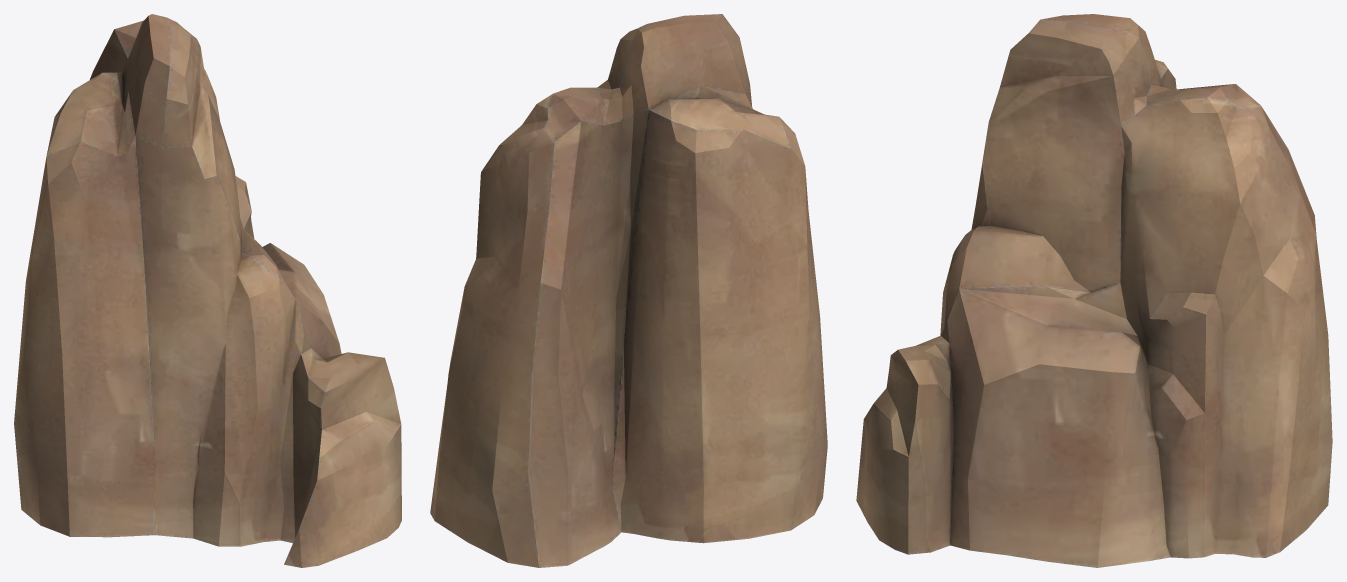
3 views of the same model, side by side, from view 1: azimuth 30°, elevation 25°; view 2: azimuth 150°, elevation 25°; view 3: azimuth 270°, elevation 25° (orthographic). The views are drawn at different scales.
Visible parts, largest first — view 1: body0_model0_lod0_mesh0; view 2: body0_model0_lod0_mesh0; view 3: body0_model0_lod0_mesh0.
Boxes of the visible parts, left/top/right/bottom form: body0_model0_lod0_mesh0: left=14, top=14, right=401, bottom=567; body0_model0_lod0_mesh0: left=430, top=14, right=827, bottom=567; body0_model0_lod0_mesh0: left=856, top=14, right=1332, bottom=567.
Bounding box in the file's own units: 196 × 278 × 258.
1 material, 1 textured.
